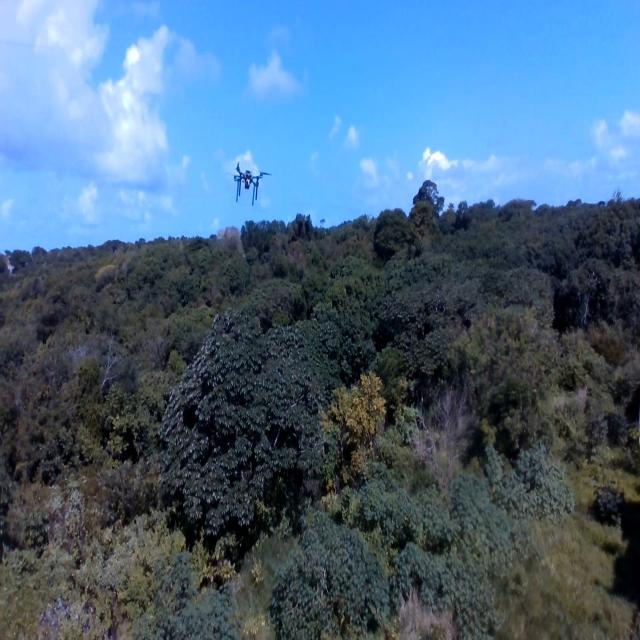-uav-: (222, 150, 274, 214)
